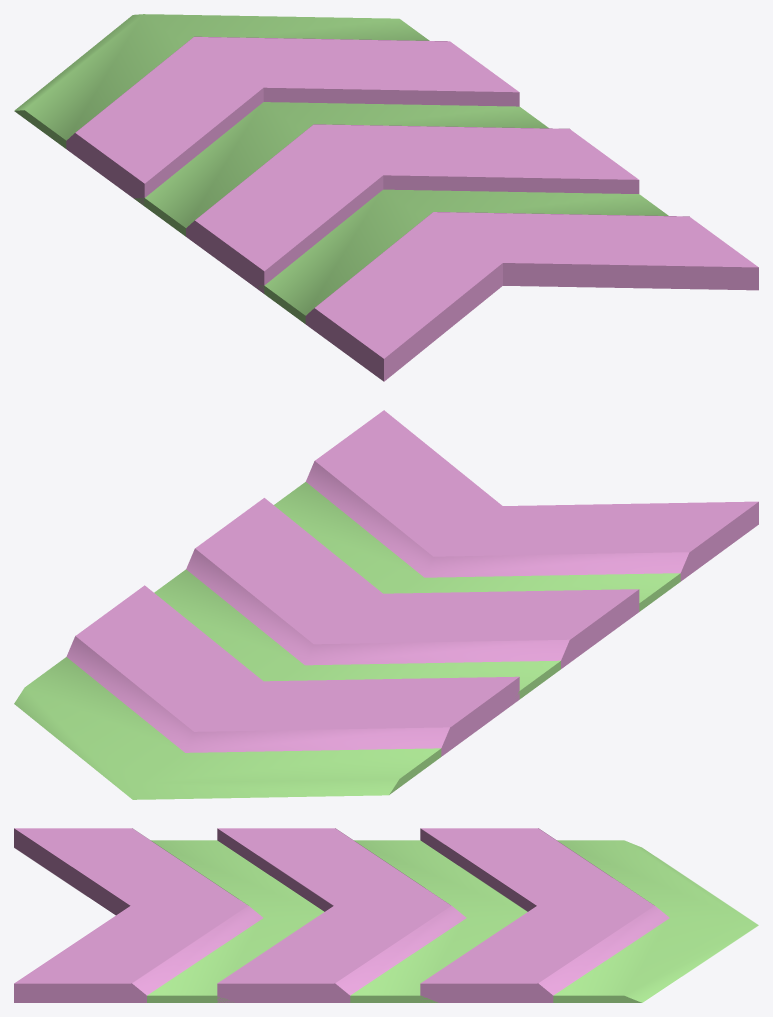
Rendered from SPEEDd.fbx.
3 views of the same model, one above another, from view 1: azimuth 30°, elevation 25°; view 2: azimuth 150°, elevation 25°; view 3: azimuth 270°, elevation 25° (orthographic). The views are drawn at different scales.
Parts seen in each view (by area): view 1: Cube; view 2: Cube; view 3: Cube.
Boxes of the visible parts, left/top/right/bottom form: Cube: left=14, top=14, right=758, bottom=381; Cube: left=14, top=410, right=758, bottom=799; Cube: left=14, top=828, right=758, bottom=1002.
Size of the model in its own units: 1.55 by 3.14 by 0.0915.
